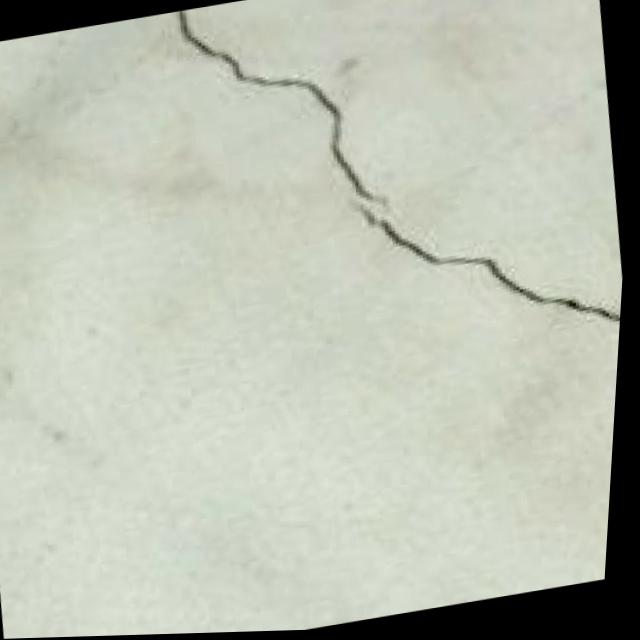Crack: (117, 0, 640, 453)
